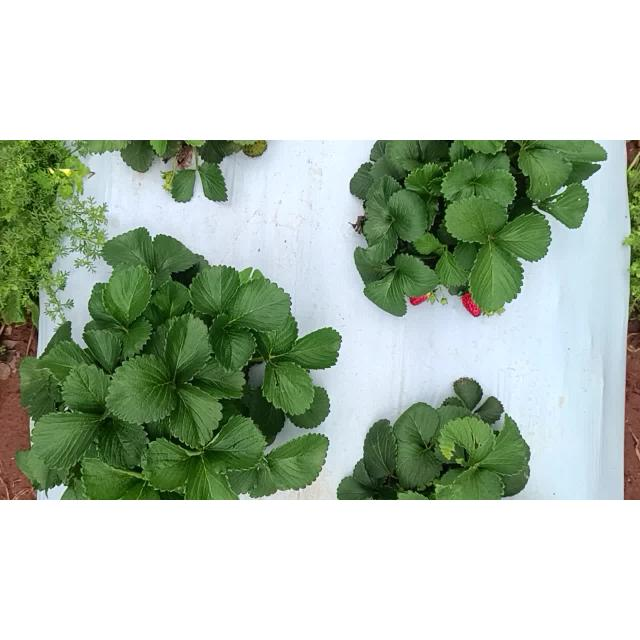maduro: (462, 290, 482, 318), (409, 292, 431, 306)
